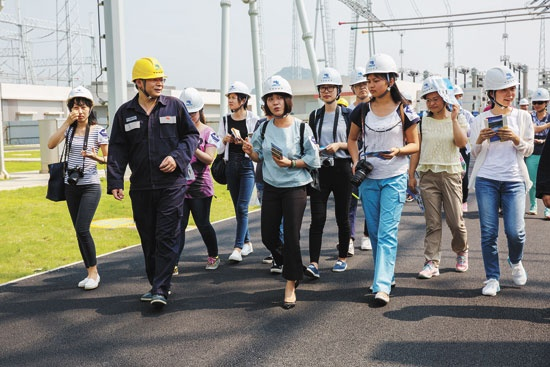white: (259, 75, 294, 120), (482, 64, 517, 108), (362, 54, 397, 97), (418, 73, 449, 114), (313, 67, 343, 105), (65, 85, 93, 123), (176, 86, 203, 125), (224, 81, 251, 112), (348, 67, 368, 101), (530, 87, 550, 113), (450, 83, 462, 104), (517, 97, 529, 110)
yellow: (130, 55, 166, 99)
